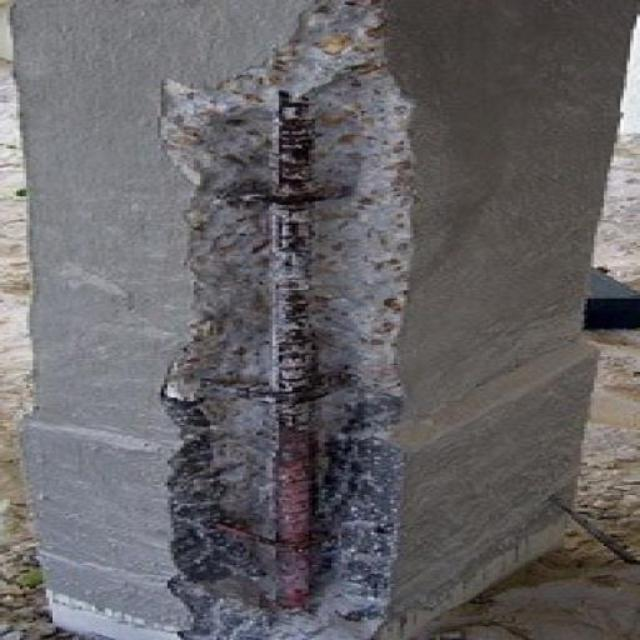D0w0: (158, 6, 415, 633)
